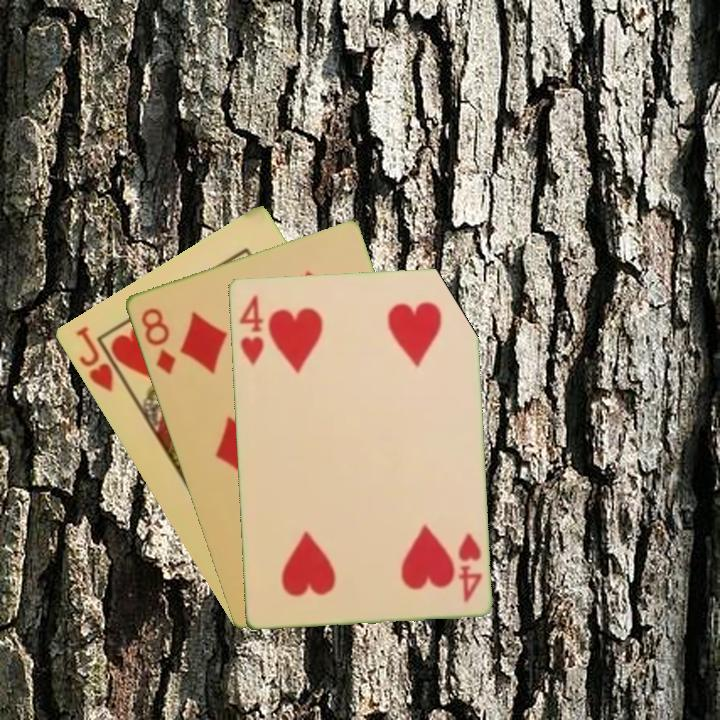4h: (235, 291, 267, 367), (454, 528, 485, 606)
8d: (137, 304, 179, 378)
Jh: (72, 322, 131, 395)
